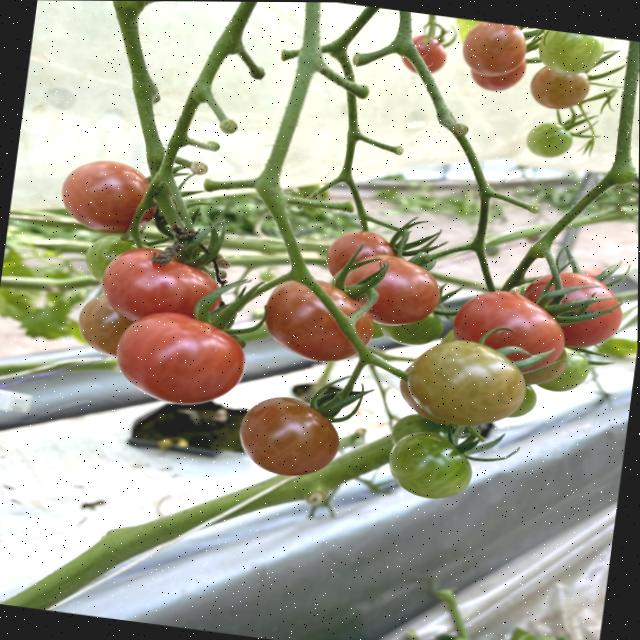ripe0: (383, 425, 476, 504), (523, 116, 574, 161)
ripe1: (400, 332, 532, 430)
ripe2: (112, 304, 251, 412), (447, 281, 571, 377), (260, 272, 378, 370), (96, 240, 226, 324), (235, 392, 344, 482), (517, 267, 626, 354), (339, 246, 446, 331), (57, 153, 161, 239), (459, 19, 530, 79)
